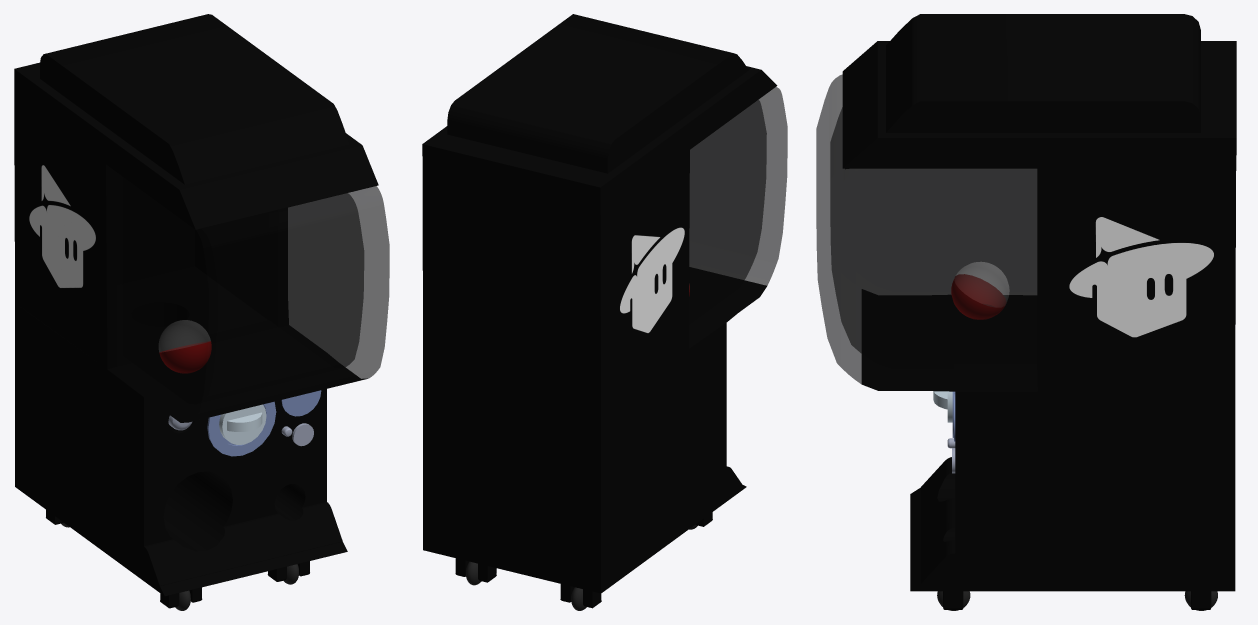
Rendered from gachapon.glb.
The picture shows the model from 3 angles, left to right: view 1: azimuth 30°, elevation 25°; view 2: azimuth 150°, elevation 25°; view 3: azimuth 270°, elevation 25°; orthographic projection. The views are drawn at different scales.
Visible parts, largest first — view 1: Machine, Plane.001, Ball, group1_pasted__group_pasted__pasted__pCylinder2, pasted__pasted__pCylinder2.003, pasted__pasted__pCylinder2.001, pasted__pasted__pCylinder2; view 2: Machine, Plane.001; view 3: Machine, Plane, Ball.
Part boxes in pixels (left/top/right/bottom): Machine: left=14, top=14, right=389, bottom=610; Plane.001: left=29, top=165, right=95, bottom=287; Ball: left=159, top=320, right=211, bottom=373; group1_pasted__group_pasted__pasted__pCylinder2: left=207, top=401, right=276, bottom=456; pasted__pasted__pCylinder2.003: left=219, top=404, right=266, bottom=444; pasted__pasted__pCylinder2.001: left=281, top=390, right=321, bottom=416; pasted__pasted__pCylinder2: left=227, top=412, right=262, bottom=431; Machine: left=422, top=14, right=787, bottom=610; Plane.001: left=620, top=227, right=684, bottom=333; Machine: left=816, top=14, right=1236, bottom=610; Plane: left=1069, top=217, right=1213, bottom=337; Ball: left=951, top=262, right=1008, bottom=319.
Bounding box in the file's own units: 0.0364 × 0.0902 × 0.0665.
10 materials, 2 textured.
